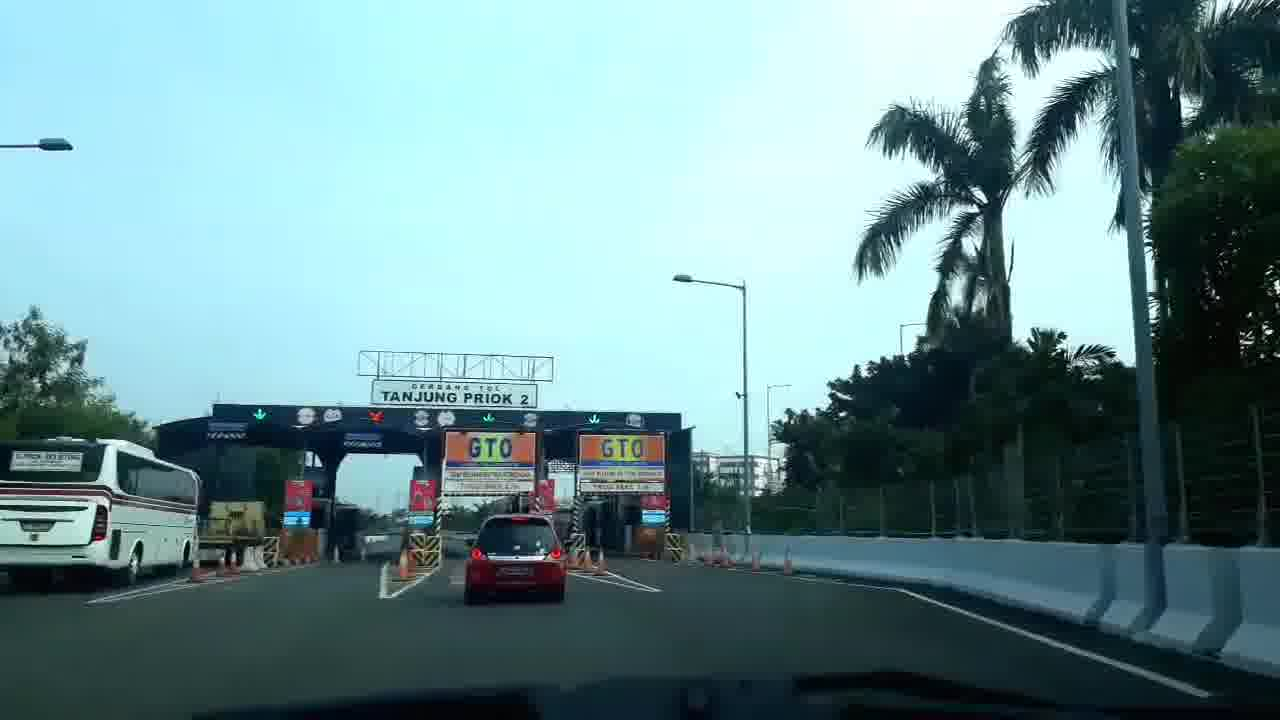plate_positive: (498, 565, 534, 576)
